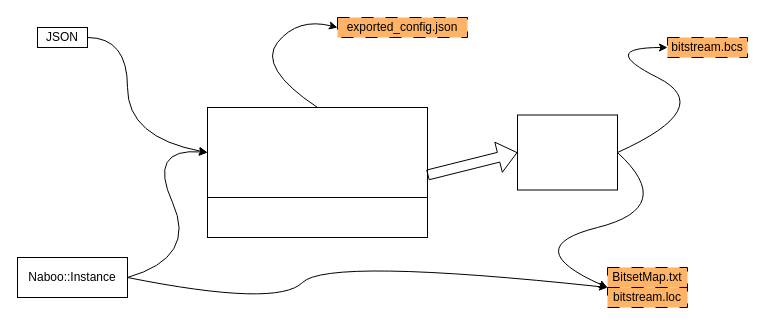
This 765x325 diagram has some shape labels left out. The shapes that lost their labels are listed below. From the top down, each one's centre as x and y in pixels, then its label:
At point (317, 152): "Config (.cpp) len std::bitset<3> ren std::bitset<3> sync bool context bool".
At point (567, 152): "SpotName configKey Address + offset 1-bit value".
At point (317, 217): "SpotName".
